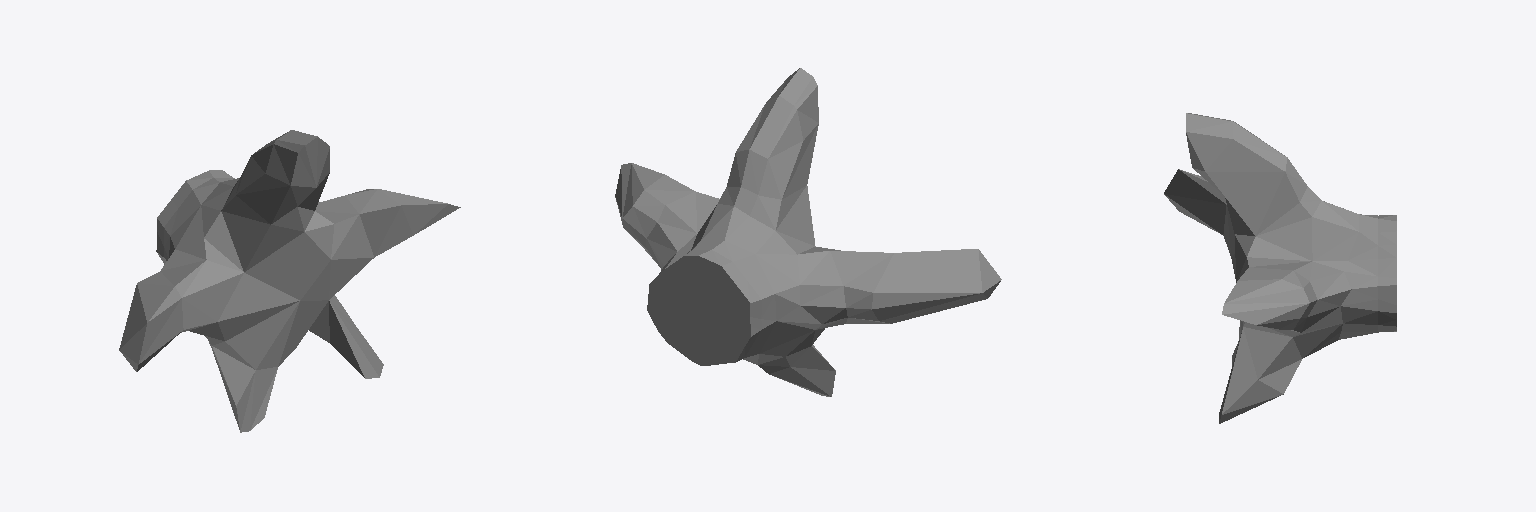
The model's file is stump.obj.
3 renders of one model, left to right at view 1: azimuth 30°, elevation 25°; view 2: azimuth 150°, elevation 25°; view 3: azimuth 270°, elevation 25°, orthographic.
Visible parts, largest first — view 1: Stump__Mt_Tree_Stump; view 2: Stump__Mt_Tree_Stump, stump_section__Mt_TreeSection_Stump, trunk_section__Mt_TreeSection_Trunk; view 3: Stump__Mt_Tree_Stump.
Boxes of the visible parts, box(x1,y1,x2,y2) form: Stump__Mt_Tree_Stump: box(119, 130, 460, 432); Stump__Mt_Tree_Stump: box(615, 68, 1001, 396); stump_section__Mt_TreeSection_Stump: box(647, 256, 750, 365); trunk_section__Mt_TreeSection_Trunk: box(648, 256, 750, 365); Stump__Mt_Tree_Stump: box(1164, 113, 1396, 423).
Bounding box in the file's own units: 4.21 × 3.44 × 2.42.